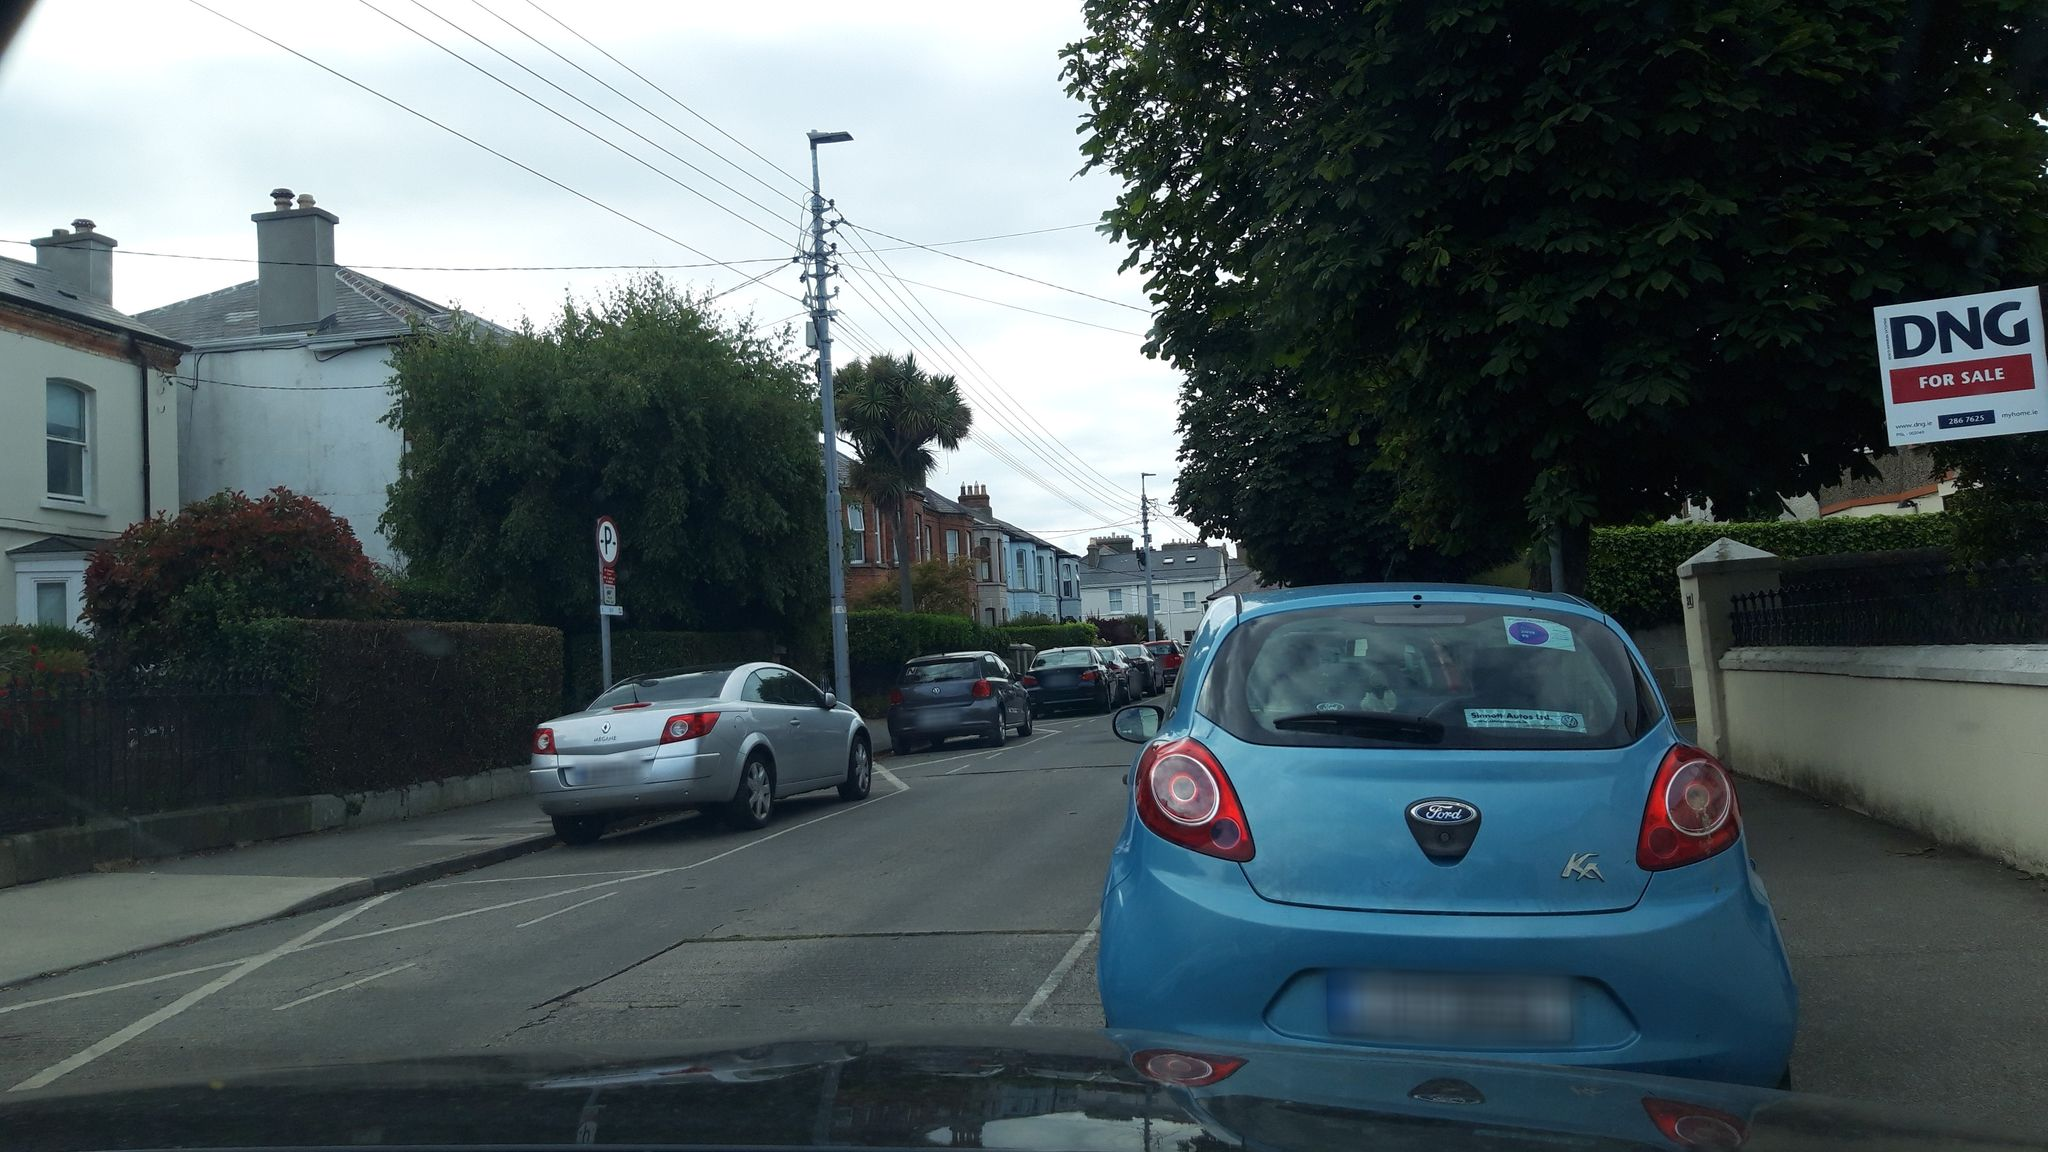property sign: (1836, 279, 2048, 461)
